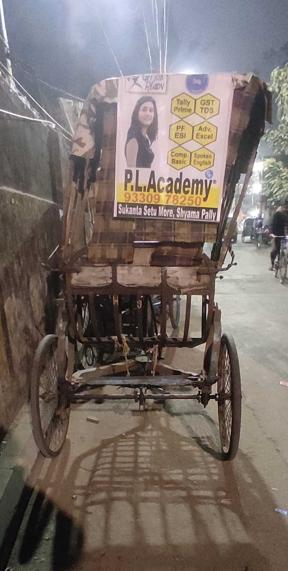Auto: (27, 67, 271, 475)
